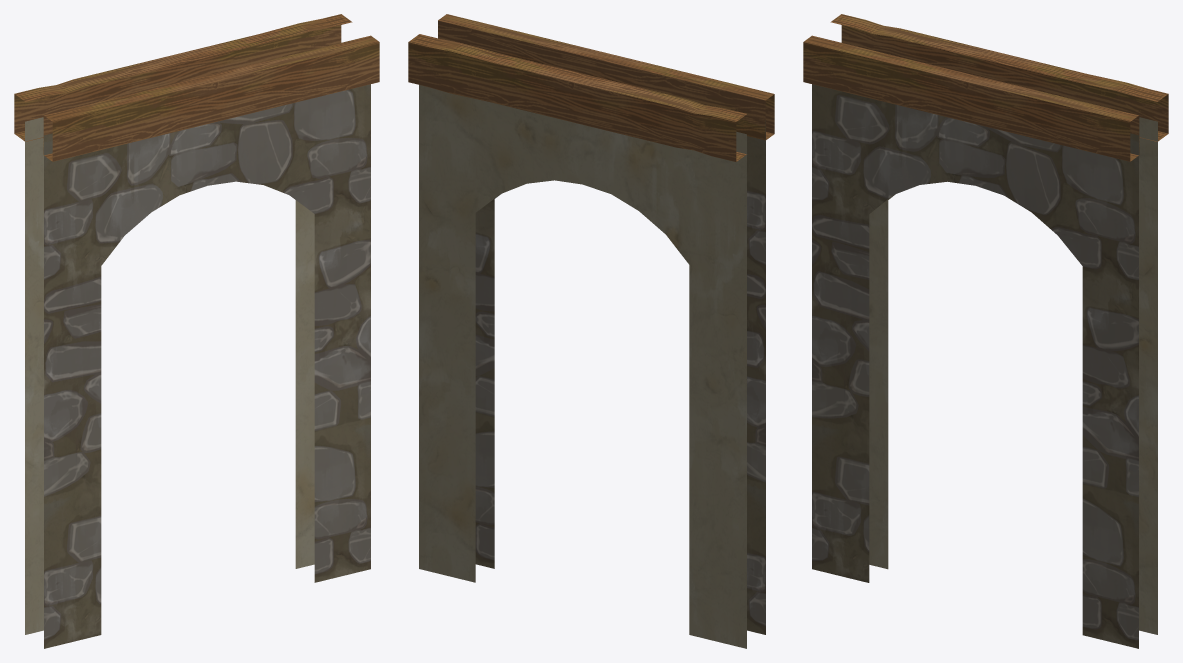
The picture shows the model from 3 angles, left to right: view 1: azimuth 30°, elevation 25°; view 2: azimuth 150°, elevation 25°; view 3: azimuth 330°, elevation 25°; orthographic projection.
Parts seen in each view (by area): view 1: 37e1e1edf72dfd00546c90eacfd33d6728d6cf527018703301e208abceac; view 2: 37e1e1edf72dfd00546c90eacfd33d6728d6cf527018703301e208abceac; view 3: 37e1e1edf72dfd00546c90eacfd33d6728d6cf527018703301e208abceac.
Boxes of the visible parts, x1,y1,x2,y2 form: 37e1e1edf72dfd00546c90eacfd33d6728d6cf527018703301e208abceac: [14, 14, 379, 648]; 37e1e1edf72dfd00546c90eacfd33d6728d6cf527018703301e208abceac: [408, 14, 774, 648]; 37e1e1edf72dfd00546c90eacfd33d6728d6cf527018703301e208abceac: [803, 14, 1168, 648].
Bounding box in the file's own units: 2 × 3.12 × 0.4065.
3 materials, 3 textured.
